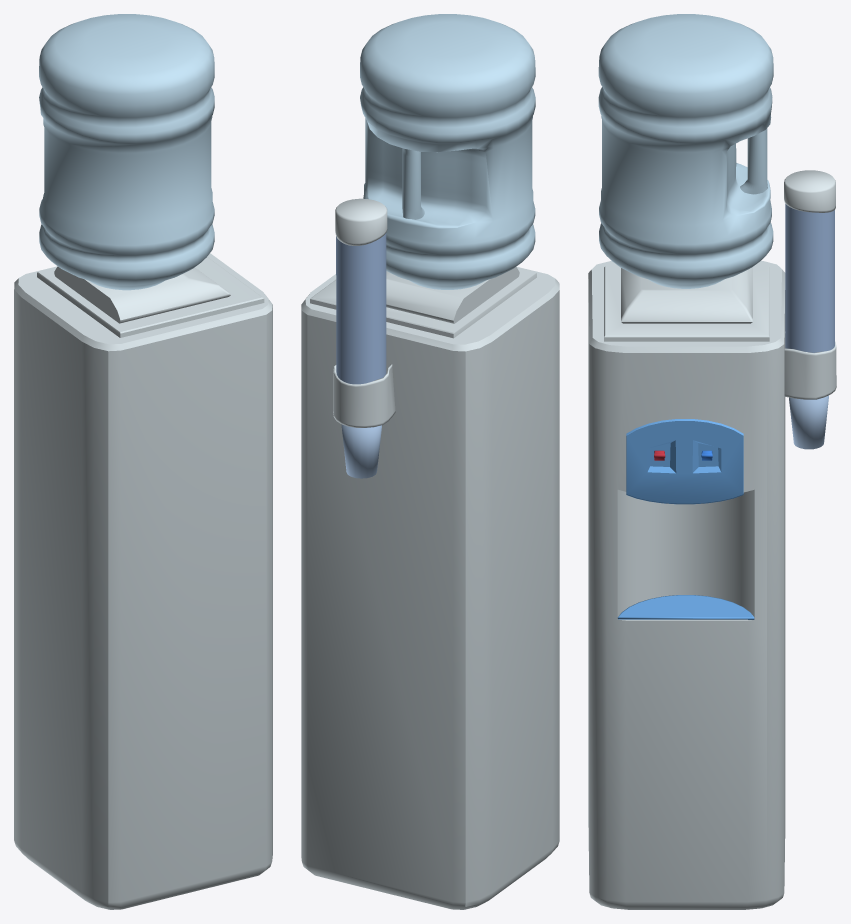
Rendered from Office Water Dispenser.fbx.
The picture shows the model from 3 angles, left to right: view 1: azimuth 30°, elevation 25°; view 2: azimuth 150°, elevation 25°; view 3: azimuth 270°, elevation 25°; orthographic projection.
Parts seen in each view (by area): view 1: water_dispenser, water_jug, water_jug_stand; view 2: water_dispenser, water_jug, cup_holder_mid, water_jug_stand, cup_holder_bot, cup_holder_top, cup, water_jug_handle; view 3: water_dispenser, water_jug, water_jug_stand, water_taps_base, cup_holder_mid, drip_tray, cup_holder_bot, cup_holder_top, cup, water_jug_handle.
Part boxes in pixels (x1,y1,x2,y2): water_dispenser: [14, 253, 272, 909]; water_jug: [39, 14, 214, 290]; water_jug_stand: [37, 257, 264, 337]; water_dispenser: [301, 266, 559, 909]; water_jug: [360, 14, 535, 289]; cup_holder_mid: [336, 233, 386, 384]; water_jug_stand: [310, 267, 536, 338]; cup_holder_bot: [333, 364, 395, 427]; cup_holder_top: [335, 198, 387, 245]; cup: [341, 424, 381, 478]; water_jug_handle: [402, 148, 424, 219]; water_dispenser: [588, 261, 785, 909]; water_jug: [598, 14, 773, 288]; water_jug_stand: [604, 266, 769, 341]; water_taps_base: [626, 419, 743, 504]; cup_holder_mid: [785, 203, 834, 352]; drip_tray: [617, 595, 754, 619]; cup_holder_bot: [784, 331, 836, 399]; cup_holder_top: [784, 170, 835, 212]; cup: [789, 395, 828, 449]; water_jug_handle: [740, 128, 767, 194].
Size of the model in its own units: 35.97 by 149 by 40.87.
